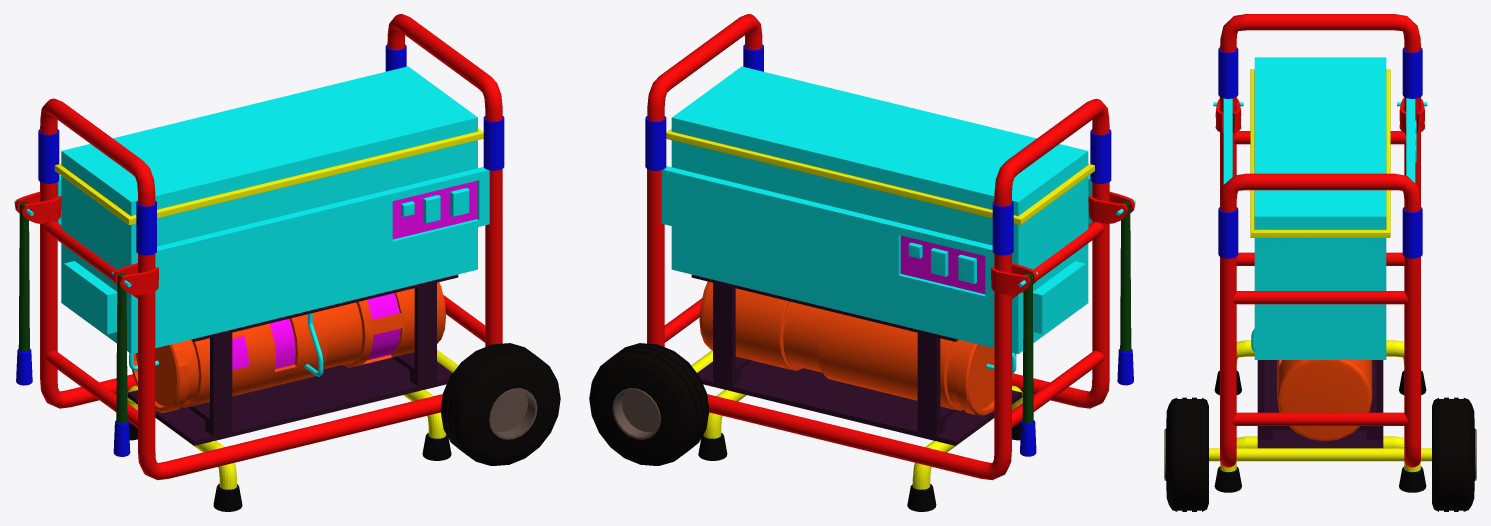
Rendered from UnityExport.fbx.
The picture shows the model from 3 angles, left to right: view 1: azimuth 30°, elevation 25°; view 2: azimuth 150°, elevation 25°; view 3: azimuth 270°, elevation 25°; orthographic projection. The views are drawn at different scales.
Visible parts, largest first — view 1: backUpGenerator; view 2: backUpGenerator; view 3: backUpGenerator.
Part boxes in pixels (bbox=[...]): backUpGenerator: bbox=[14, 14, 560, 511]; backUpGenerator: bbox=[589, 14, 1135, 511]; backUpGenerator: bbox=[1164, 14, 1476, 511].
Size of the model in its own units: 2.88 by 2.37 by 1.97.
